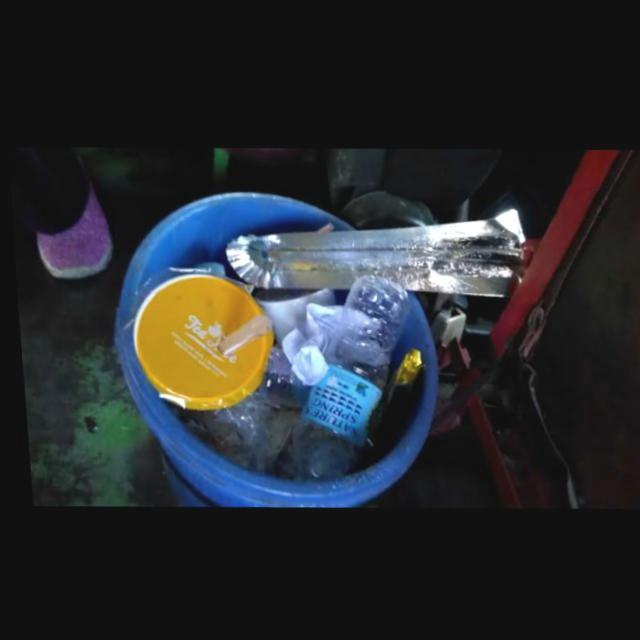aluminum: (221, 206, 523, 295)
plastic_bottle: (287, 272, 405, 476)
plastic_container: (129, 271, 270, 410)
